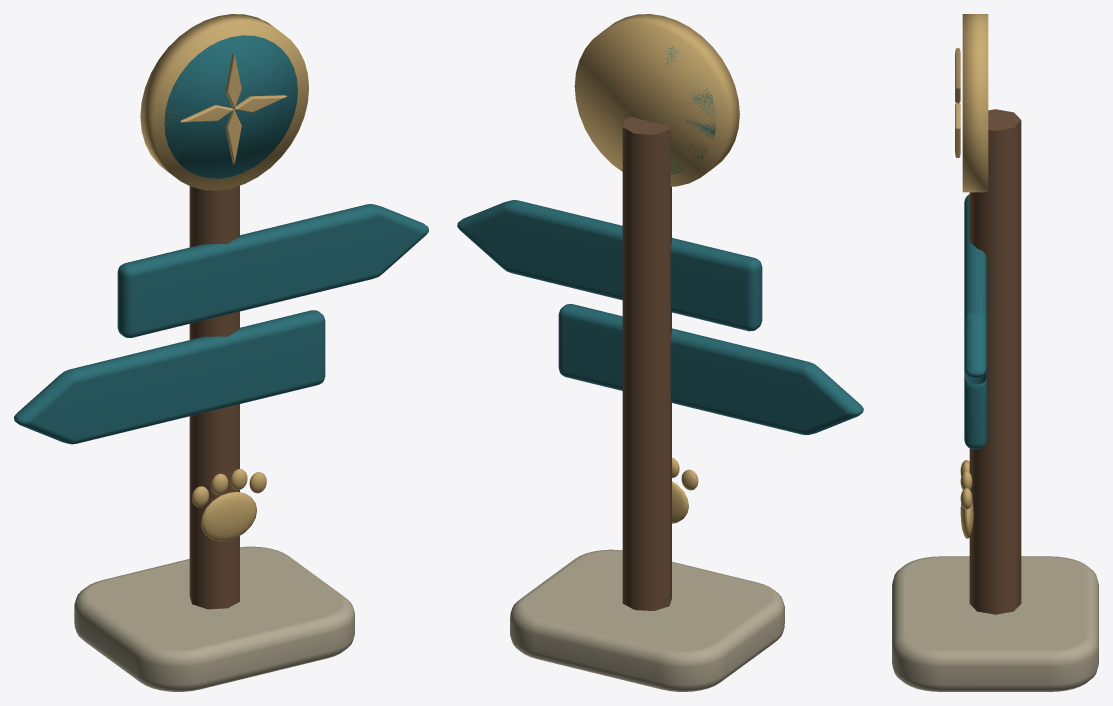
Rendered from travel_sign_atelier.glb.
The picture shows the model from 3 angles, left to right: view 1: azimuth 30°, elevation 25°; view 2: azimuth 150°, elevation 25°; view 3: azimuth 270°, elevation 25°; orthographic projection. The views are drawn at different scales.
Parts seen in each view (by area): view 1: travel_sign_atelier__Painted_travel_sign_atelier_Glaze, travel_sign_atelier__TaggedPainted_travel_sign_atelier_Matte, travel_sign_atelier__Painted_travel_sign_atelier_Metal; view 2: travel_sign_atelier__TaggedPainted_travel_sign_atelier_Matte, travel_sign_atelier__Painted_travel_sign_atelier_Glaze, travel_sign_atelier__Painted_travel_sign_atelier_Metal; view 3: travel_sign_atelier__TaggedPainted_travel_sign_atelier_Matte, travel_sign_atelier__Painted_travel_sign_atelier_Metal, travel_sign_atelier__Painted_travel_sign_atelier_Glaze.
Part boxes in pixels (box(x1,y1,x2,y2)): travel_sign_atelier__Painted_travel_sign_atelier_Glaze: box(14, 35, 428, 444); travel_sign_atelier__TaggedPainted_travel_sign_atelier_Matte: box(74, 185, 354, 691); travel_sign_atelier__Painted_travel_sign_atelier_Metal: box(140, 14, 308, 541); travel_sign_atelier__TaggedPainted_travel_sign_atelier_Matte: box(510, 117, 784, 691); travel_sign_atelier__Painted_travel_sign_atelier_Glaze: box(457, 46, 863, 434); travel_sign_atelier__Painted_travel_sign_atelier_Metal: box(574, 14, 739, 523); travel_sign_atelier__TaggedPainted_travel_sign_atelier_Matte: box(892, 109, 1098, 691); travel_sign_atelier__Painted_travel_sign_atelier_Metal: box(955, 14, 988, 538); travel_sign_atelier__Painted_travel_sign_atelier_Glaze: box(964, 194, 986, 448).
Size of the model in its own units: 1.26 by 1.83 by 0.55.
